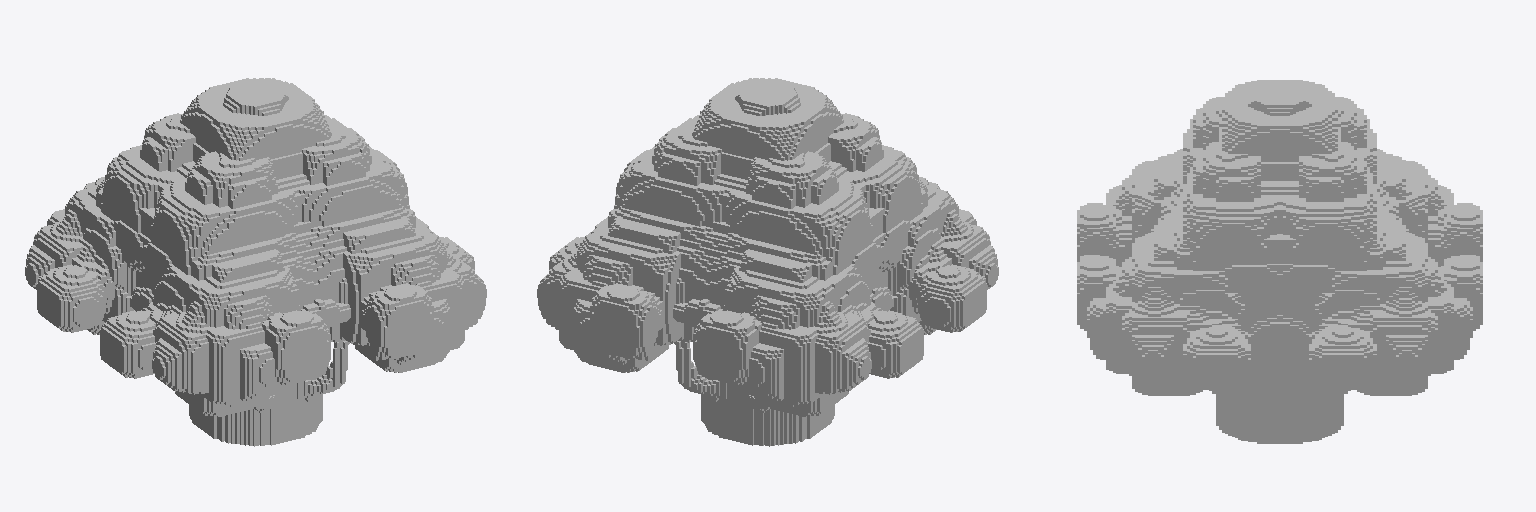
Rendered from tree2.obj.
The picture shows the model from 3 angles: view 1: azimuth 30°, elevation 25°; view 2: azimuth 150°, elevation 25°; view 3: azimuth 270°, elevation 25°; orthographic projection.
Parts seen in each view (by area): view 1: object 1; view 2: object 1; view 3: object 1.
Boxes of the visible parts, x1,y1,x2,y2 form: object 1: [25, 78, 486, 446]; object 1: [537, 78, 998, 446]; object 1: [1077, 80, 1482, 443].
Size of the model in its own units: 12.6 by 11.1 by 12.6.